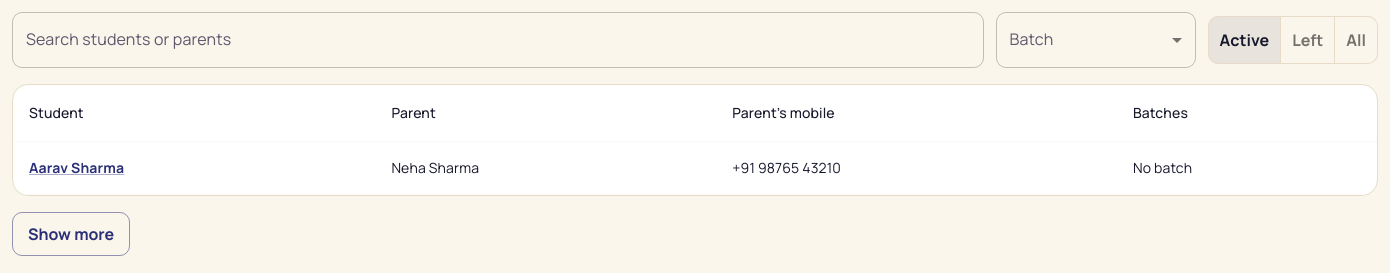
Test: StudentList › shows more when there are more
Step 1. Click the button "Show more" → (71, 234), box [12, 212, 130, 256]
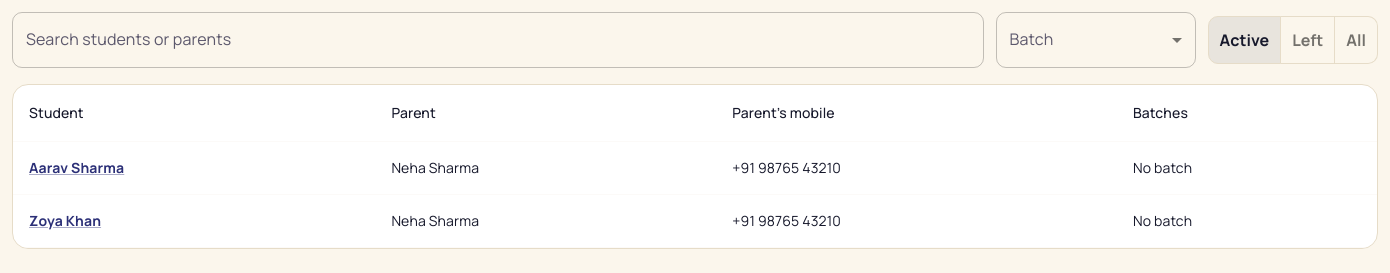
Expected: the link "Aarav Sharma" is shown, [29, 158, 124, 177]
Expected: the link "Zoya Khan" is shown, [29, 211, 101, 230]
Expected: the button "Show more" is gone
